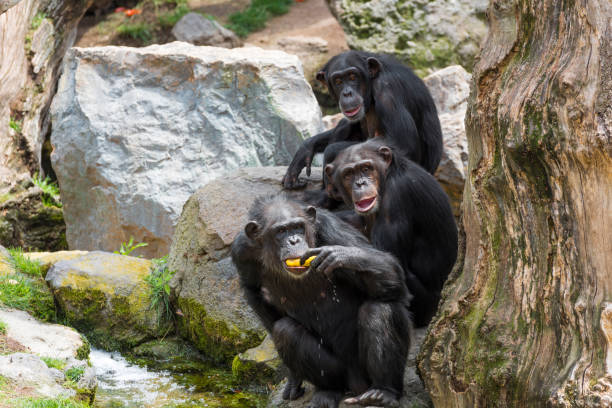chimpanzee: (233, 188, 339, 285), (318, 129, 407, 219), (311, 47, 389, 136)
